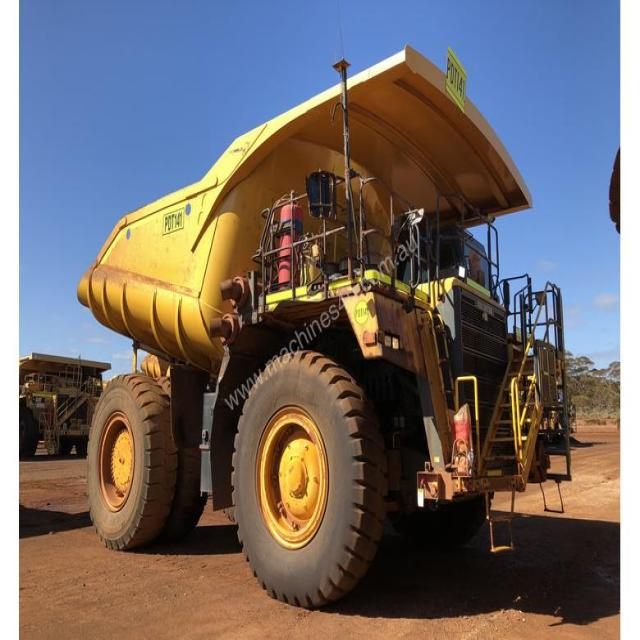dump_truck: (78, 45, 568, 598)
